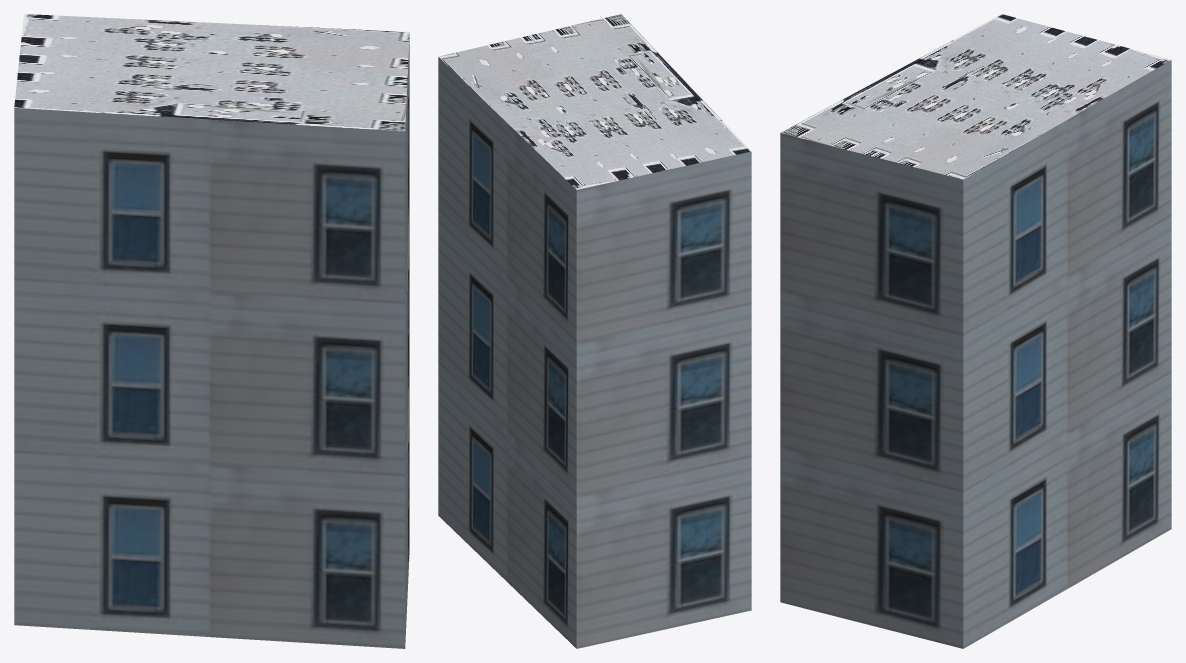
File: ResTex__3007.fbx
3 renders of one model, left to right at view 1: azimuth 30°, elevation 25°; view 2: azimuth 150°, elevation 25°; view 3: azimuth 270°, elevation 25°, orthographic. The views are drawn at different scales.
Visible parts, largest first — view 1: CityEngineMaterial_18_m, CityEngineMaterial_8_m; view 2: CityEngineMaterial_18_m, CityEngineMaterial_8_m; view 3: CityEngineMaterial_18_m, CityEngineMaterial_8_m.
Part boxes in pixels (x1,y1,x2,y2): CityEngineMaterial_18_m: [14, 37, 409, 648]; CityEngineMaterial_8_m: [14, 14, 409, 131]; CityEngineMaterial_18_m: [438, 57, 751, 648]; CityEngineMaterial_8_m: [438, 14, 751, 189]; CityEngineMaterial_18_m: [780, 60, 1171, 648]; CityEngineMaterial_8_m: [781, 14, 1171, 179].
Size of the model in its own units: 6.81 by 9 by 6.81.
2 materials, 2 textured.
